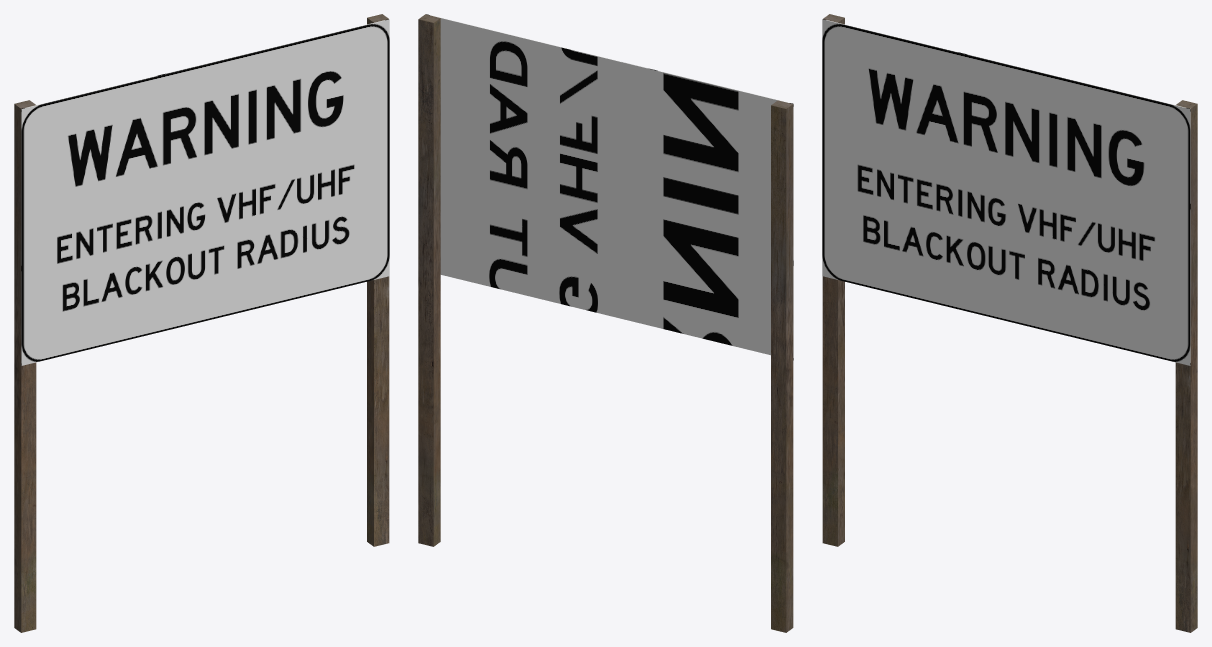
File: BlackoutSign.fbx
The picture shows the model from 3 angles, left to right: view 1: azimuth 30°, elevation 25°; view 2: azimuth 150°, elevation 25°; view 3: azimuth 330°, elevation 25°; orthographic projection.
Parts seen in each view (by area): view 1: Sign, Cube, Cube.001; view 2: Sign, Cube.001, Cube; view 3: Sign, Cube.001, Cube.
Part boxes in pixels (bbox=[...]): Sign: bbox=[21, 19, 389, 365]; Cube: bbox=[14, 100, 36, 632]; Cube.001: bbox=[367, 14, 389, 546]; Sign: bbox=[425, 14, 793, 360]; Cube.001: bbox=[418, 14, 440, 546]; Cube: bbox=[771, 100, 793, 632]; Sign: bbox=[822, 19, 1190, 365]; Cube.001: bbox=[1175, 100, 1197, 632]; Cube: bbox=[822, 14, 844, 546].
Size of the model in its own units: 1.5 by 2.04 by 0.0517.
